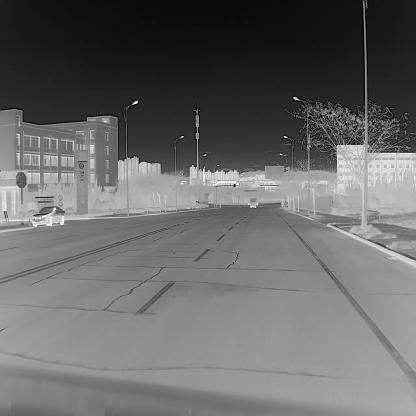car: (30, 205, 67, 227), (249, 198, 257, 208)
